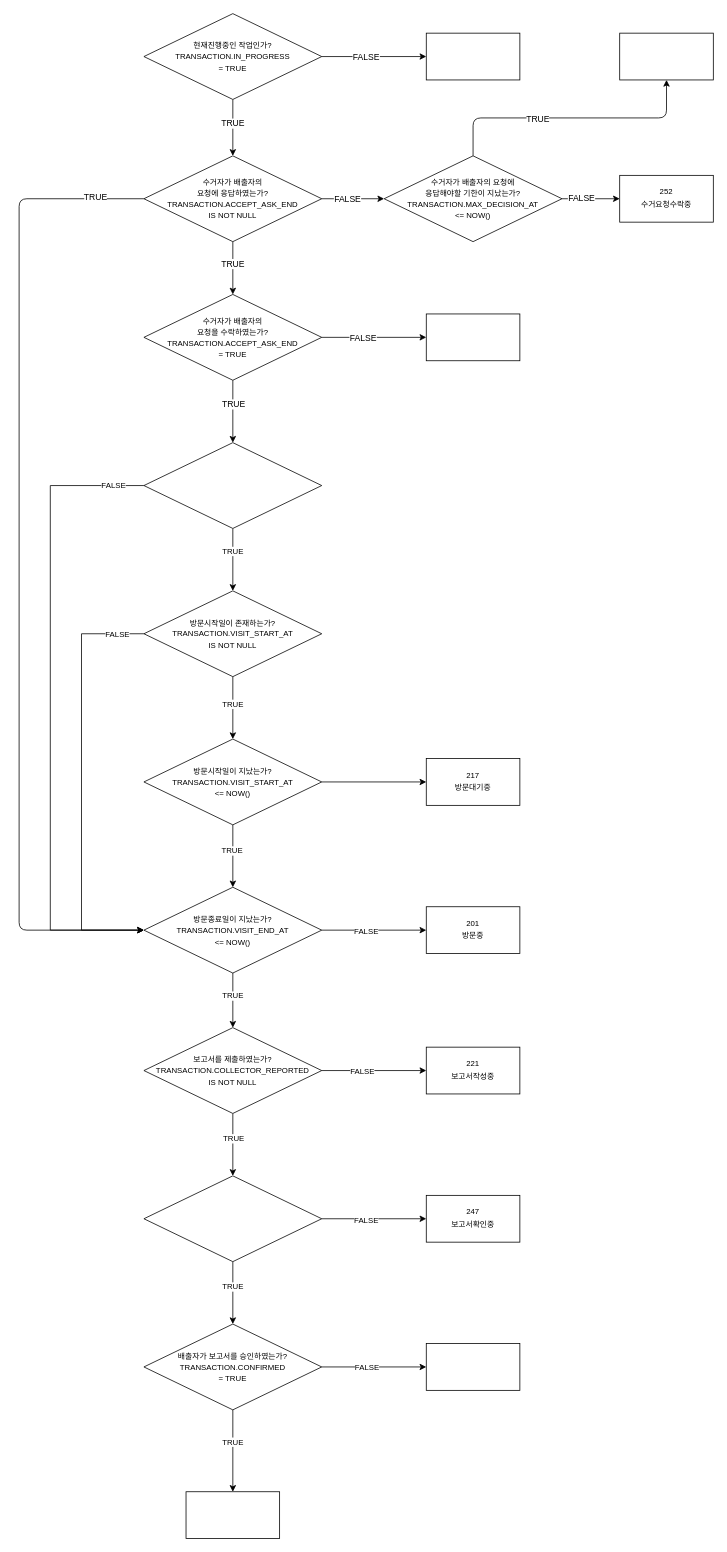
The diagram is 727 pixels wide and 1552 high, and some of its shapes have lost their labels. The box of each missing label's shape, as (x1, y1, x2, y2) in pixels:
211 거래종료: (425, 32, 520, 80)
246 보고서확인완료: (185, 1491, 280, 1539)
248 보고서반려: (425, 1343, 520, 1390)
250 수거요청포기: (619, 32, 713, 80)
251 수거요청거절: (425, 313, 520, 361)
방문종료일이 존재하는가? TRANSACTION.VISIT_END_AT IS NOT NULL: (143, 442, 322, 528)
배출자가 보고서를 검토하였는가? TRANSACTION. CONFIRMED IS NOT NULL: (143, 1175, 322, 1262)
